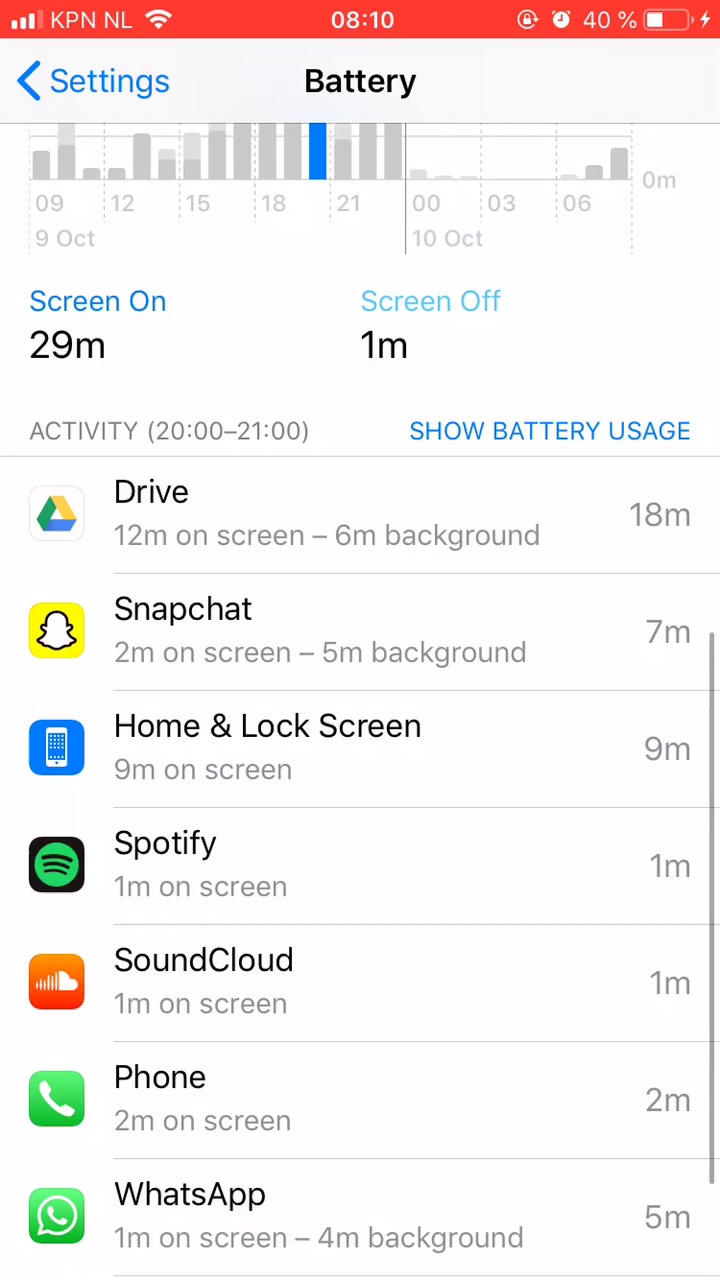activity: (31, 405, 328, 447)
app: (31, 476, 707, 561), (29, 580, 705, 665), (27, 699, 703, 784), (25, 812, 701, 897), (22, 939, 698, 1024), (27, 1057, 703, 1142), (26, 1176, 702, 1261)
